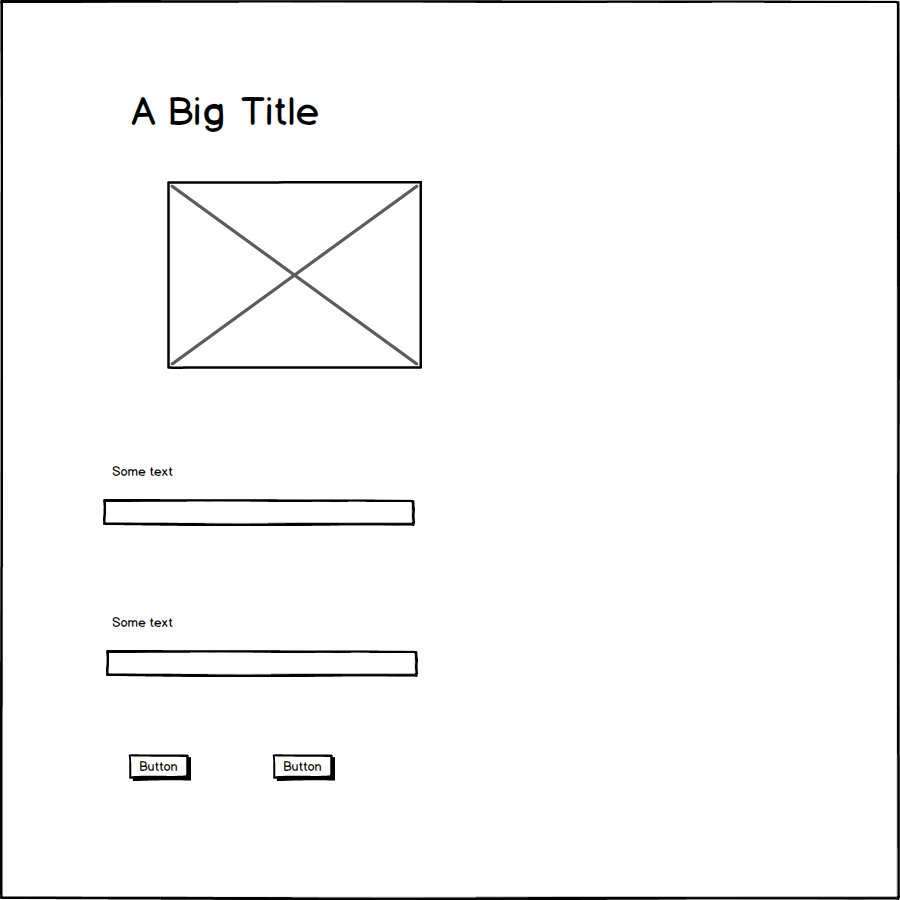button: (271, 749, 342, 792), (124, 749, 200, 789)
h1: (123, 84, 323, 136)
image: (159, 173, 430, 373)
input: (102, 645, 430, 685), (101, 493, 423, 532)
label: (102, 452, 178, 485), (107, 610, 186, 634)
